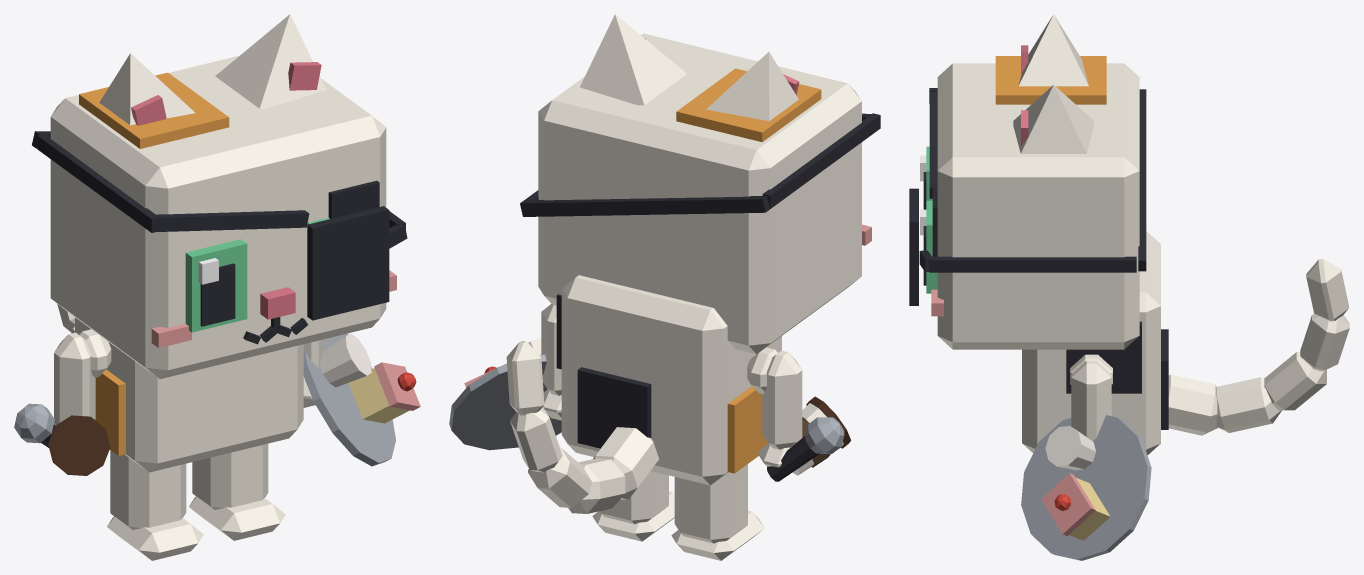
Rendered from CatCafe_Cat_Calico_Work.glb.
3 renders of one model, left to right at view 1: azimuth 30°, elevation 25°; view 2: azimuth 150°, elevation 25°; view 3: azimuth 270°, elevation 25°, orthographic. The views are drawn at different scales.
Parts seen in each view (by area): view 1: CatCafe_Cat_Calico_Work_Head, CatCafe_Cat_Calico_Work_Body, CatCafe_Cat_Calico_Work_Prop, CatCafe_Cat_Calico_Work_Held_Waiter, CatCafe_Cat_Calico_Work_LegB2, CatCafe_Cat_Calico_Work_LegB1, CatCafe_Cat_Calico_Work_EarL, CatCafe_Cat_Calico_Work_Eye2, CatCafe_Cat_Calico_Work_EarR, CatCafe_Cat_Calico_Work_LegF2, CatCafe_Cat_Calico_Work_Held_Barista, CatCafe_Cat_Calico_Work_Held_Entertainer (+1 smaller); view 2: CatCafe_Cat_Calico_Work_Head, CatCafe_Cat_Calico_Work_Body, CatCafe_Cat_Calico_Work_Tail, CatCafe_Cat_Calico_Work_Prop, CatCafe_Cat_Calico_Work_LegB2, CatCafe_Cat_Calico_Work_EarL, CatCafe_Cat_Calico_Work_Held_Waiter, CatCafe_Cat_Calico_Work_LegF2, CatCafe_Cat_Calico_Work_EarR, CatCafe_Cat_Calico_Work_LegB1, CatCafe_Cat_Calico_Work_Held_Entertainer, CatCafe_Cat_Calico_Work_LegF1 (+1 smaller); view 3: CatCafe_Cat_Calico_Work_Head, CatCafe_Cat_Calico_Work_Held_Waiter, CatCafe_Cat_Calico_Work_Body, CatCafe_Cat_Calico_Work_Tail, CatCafe_Cat_Calico_Work_Prop, CatCafe_Cat_Calico_Work_EarL, CatCafe_Cat_Calico_Work_EarR, CatCafe_Cat_Calico_Work_LegF1, CatCafe_Cat_Calico_Work_Eye1.
Part boxes in pixels (x1,y1,x2,y2): CatCafe_Cat_Calico_Work_Head: [50, 55, 396, 378]; CatCafe_Cat_Calico_Work_Body: [75, 317, 303, 472]; CatCafe_Cat_Calico_Work_Prop: [32, 131, 407, 320]; CatCafe_Cat_Calico_Work_Held_Waiter: [303, 333, 420, 466]; CatCafe_Cat_Calico_Work_LegB2: [107, 450, 203, 560]; CatCafe_Cat_Calico_Work_LegB1: [189, 443, 285, 540]; CatCafe_Cat_Calico_Work_EarL: [215, 14, 326, 108]; CatCafe_Cat_Calico_Work_Eye2: [185, 239, 247, 332]; CatCafe_Cat_Calico_Work_EarR: [99, 53, 195, 125]; CatCafe_Cat_Calico_Work_LegF2: [54, 332, 95, 424]; CatCafe_Cat_Calico_Work_Held_Barista: [48, 415, 110, 475]; CatCafe_Cat_Calico_Work_Held_Entertainer: [14, 403, 55, 447]; CatCafe_Cat_Calico_Work_Head: [538, 33, 871, 354]; CatCafe_Cat_Calico_Work_Body: [556, 275, 781, 485]; CatCafe_Cat_Calico_Work_Tail: [506, 341, 658, 513]; CatCafe_Cat_Calico_Work_Prop: [520, 113, 880, 216]; CatCafe_Cat_Calico_Work_LegB2: [671, 464, 764, 560]; CatCafe_Cat_Calico_Work_EarL: [580, 14, 686, 105]; CatCafe_Cat_Calico_Work_Held_Waiter: [449, 338, 561, 450]; CatCafe_Cat_Calico_Work_LegF2: [758, 350, 802, 467]; CatCafe_Cat_Calico_Work_EarR: [706, 52, 799, 121]; CatCafe_Cat_Calico_Work_LegB1: [592, 471, 674, 541]; CatCafe_Cat_Calico_Work_Held_Entertainer: [767, 417, 844, 481]; CatCafe_Cat_Calico_Work_LegF1: [541, 304, 561, 420]; CatCafe_Cat_Calico_Work_Head: [931, 56, 1139, 349]; CatCafe_Cat_Calico_Work_Held_Waiter: [1021, 415, 1151, 560]; CatCafe_Cat_Calico_Work_Body: [1022, 231, 1168, 455]; CatCafe_Cat_Calico_Work_Tail: [1168, 259, 1349, 435]; CatCafe_Cat_Calico_Work_Prop: [909, 88, 1146, 305]; CatCafe_Cat_Calico_Work_EarL: [1013, 85, 1093, 153]; CatCafe_Cat_Calico_Work_EarR: [1018, 14, 1088, 86]; CatCafe_Cat_Calico_Work_LegF1: [1071, 361, 1111, 441]; CatCafe_Cat_Calico_Work_Eye1: [920, 200, 937, 293].
Bounding box in the file's own units: 1.53 × 1.93 × 1.66.
1 material, 1 textured.
